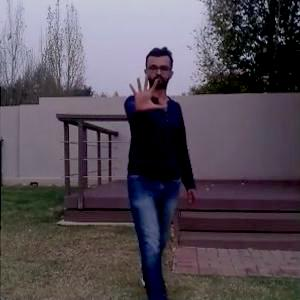follow_hand: (123, 72, 167, 114)
